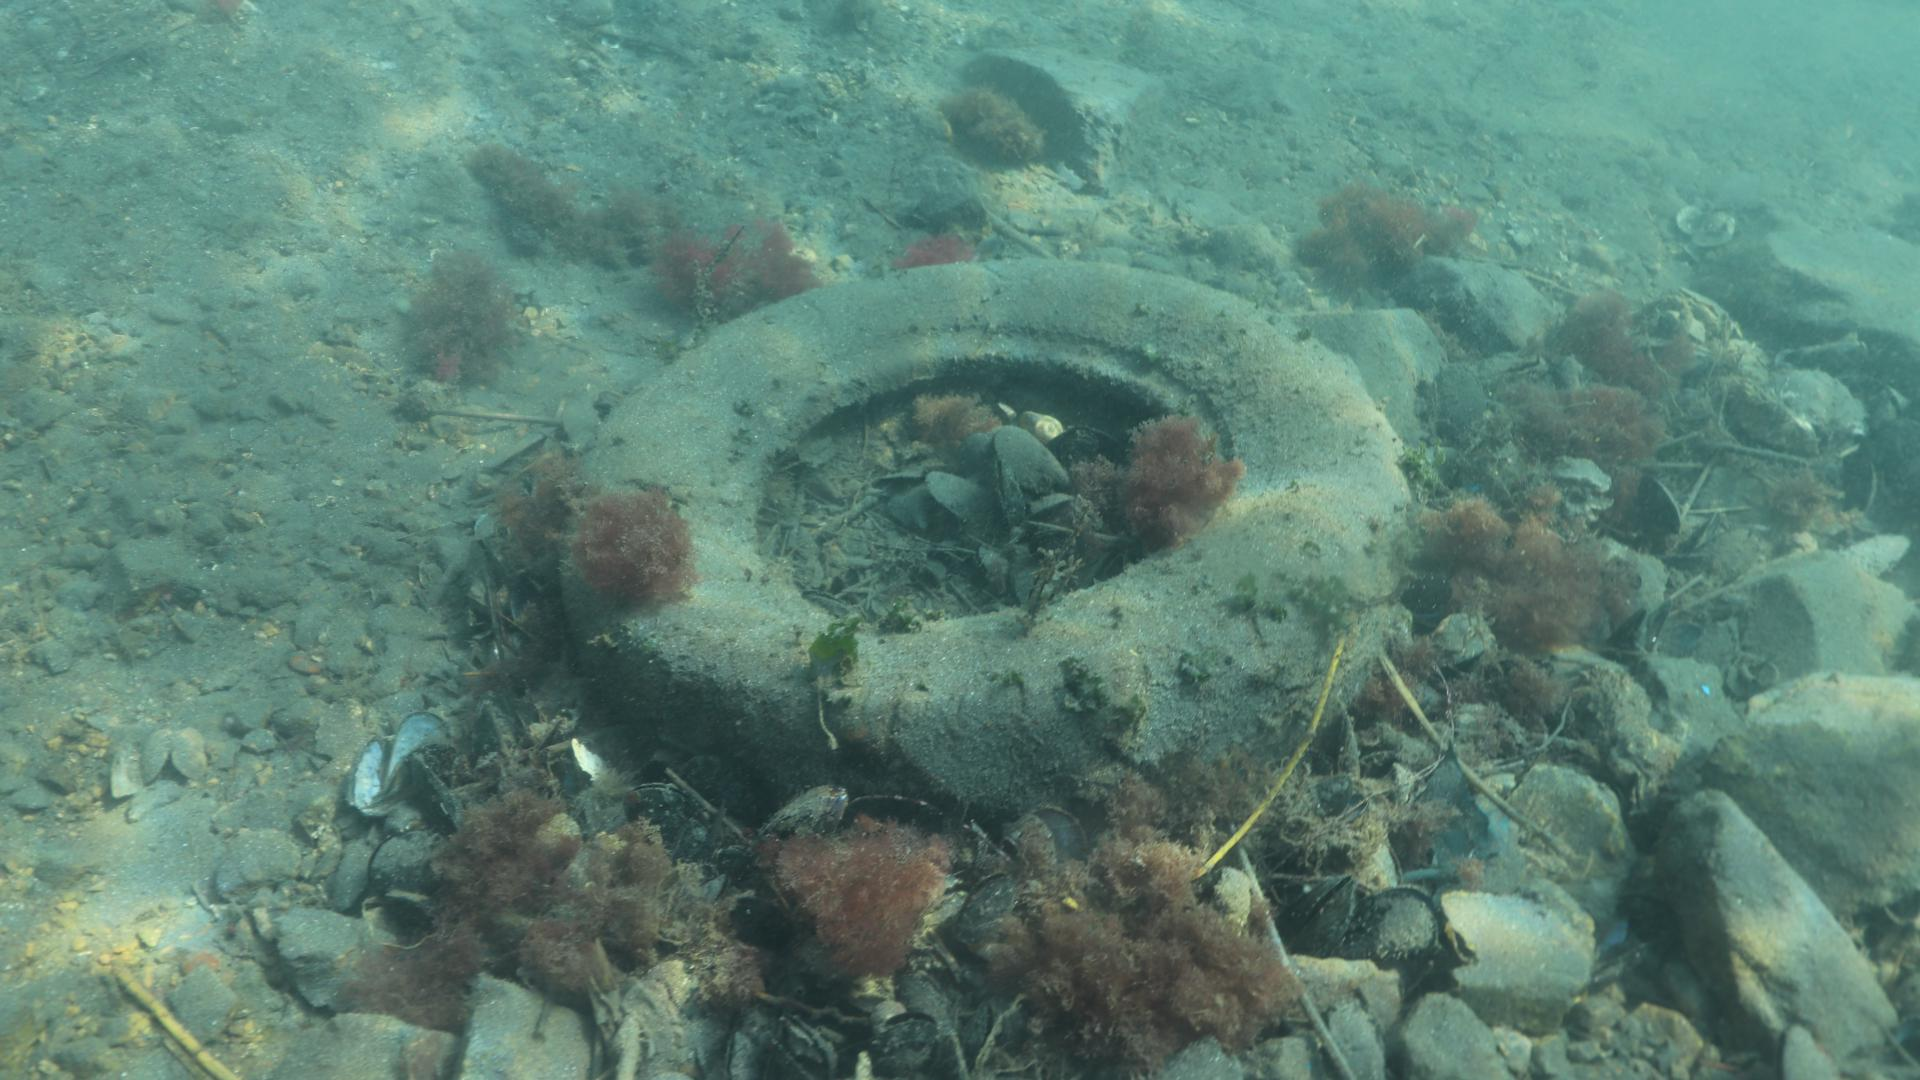tire: (556, 257, 1414, 818)
